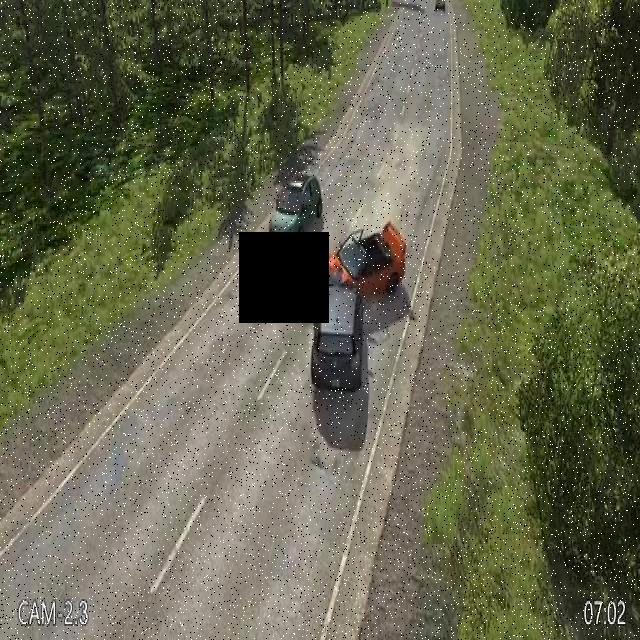moderate: (310, 216, 412, 398)
